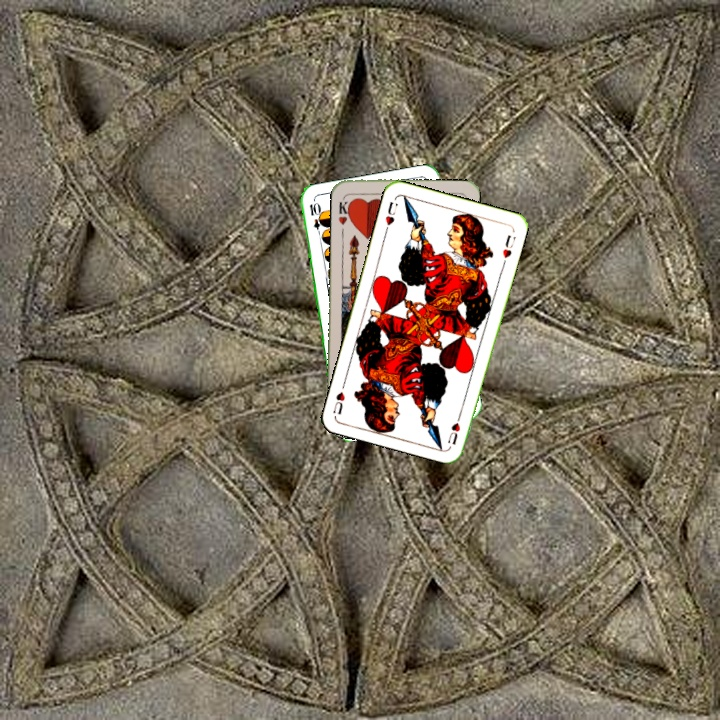E10: (305, 199, 325, 239)
HK: (334, 192, 354, 227)
HU: (443, 408, 464, 447), (381, 197, 398, 235)
